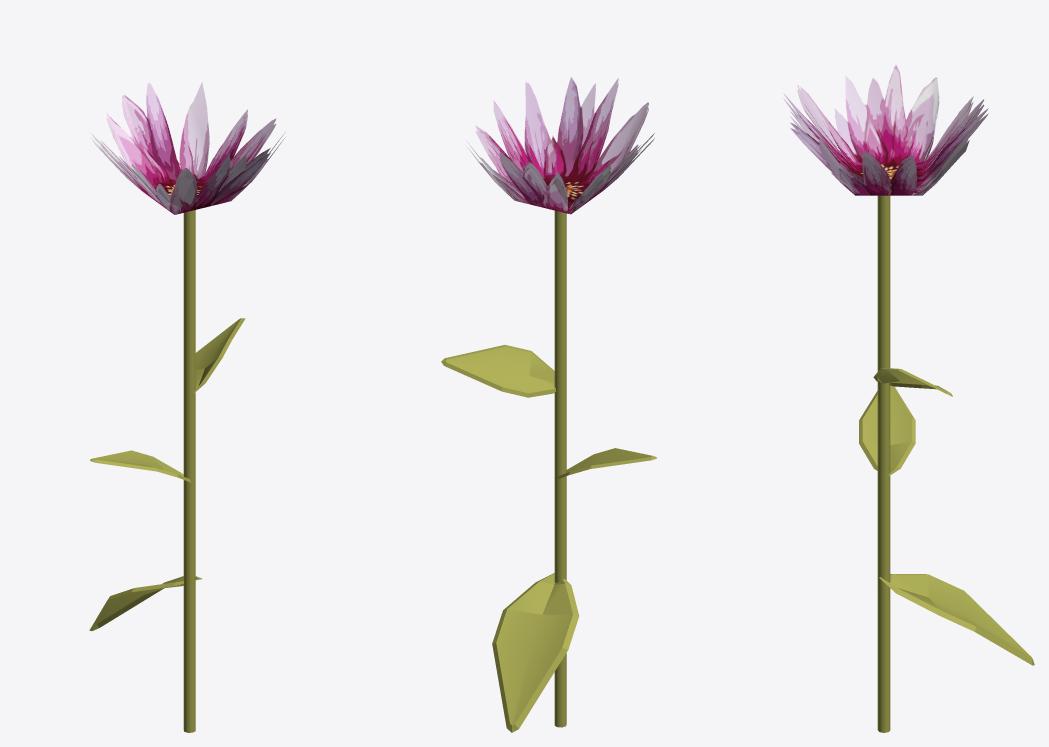
File: SM_flower_02.fbx
3 views of the same model, side by side, from view 1: azimuth 30°, elevation 25°; view 2: azimuth 150°, elevation 25°; view 3: azimuth 270°, elevation 25° (orthographic). The views are drawn at different scales.
Parts seen in each view (by area): view 1: flower_02; view 2: flower_02; view 3: flower_02.
Part boxes in pixels (x1,y1,x2,y2): flower_02: [89, 82, 285, 732]; flower_02: [441, 76, 656, 732]; flower_02: [783, 64, 1034, 732].
Size of the model in its own units: 21.6 by 60.64 by 22.92.
